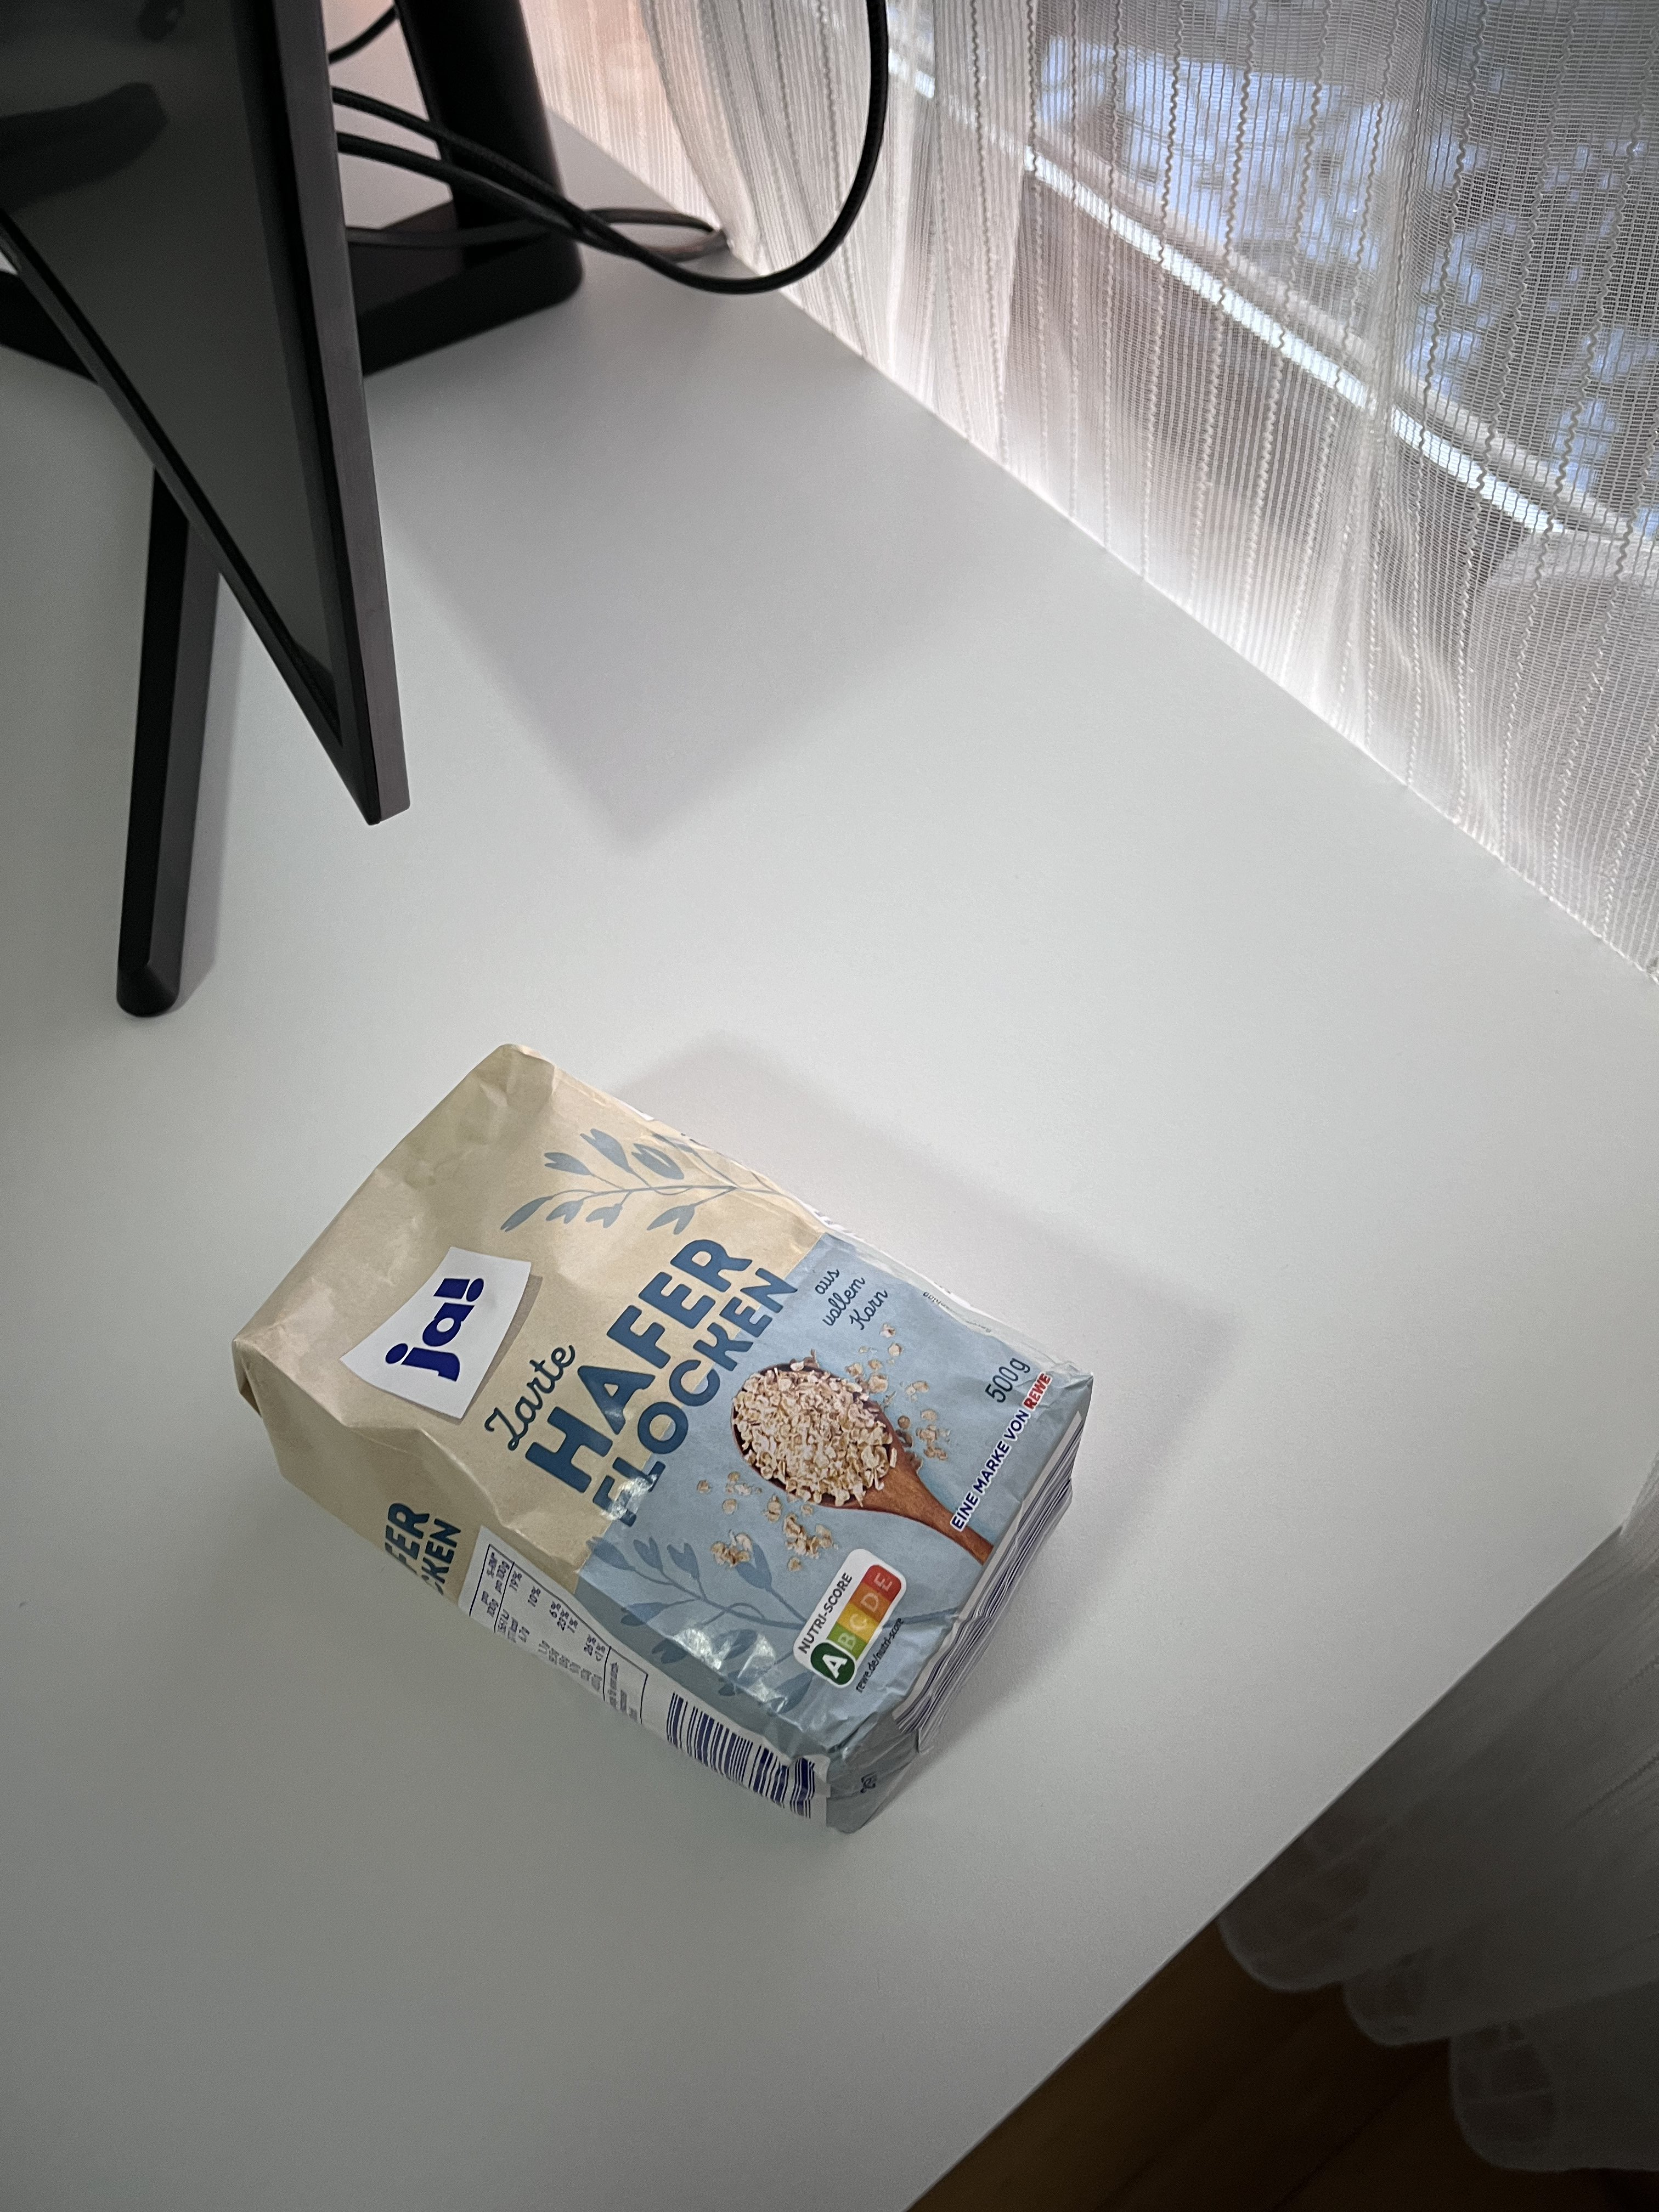haferflocken_ja: (235, 1045, 1094, 1836)
